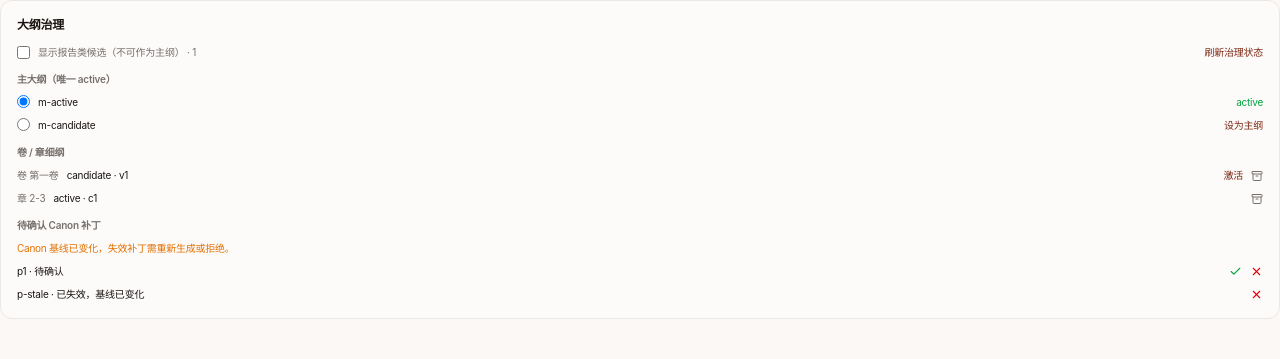
it: OutlineGovernancePanel › hides report candidates by default and exposes them without activation
Check: the text "m-active" is shown, box [38,95,78,110]
Check: the text "audit-report" is not shown
Click the checkbox labelled "显示报告类候选（不可作为主纲） · 1" at (24, 52), box [17,46,30,59]
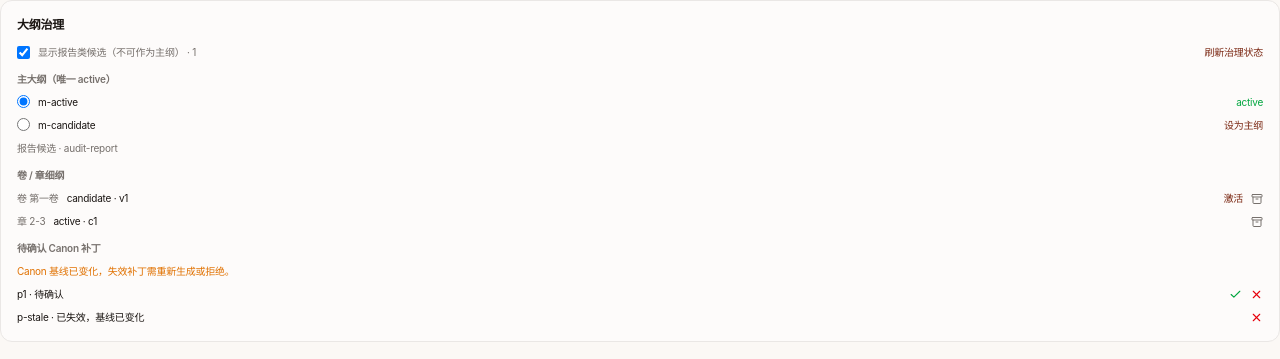
Check: the number of radio buttons is 2, box [17,95,30,108]; [17,118,30,131]
Check: the text "报告候选 · audit-report" is shown, box [17,142,117,154]
